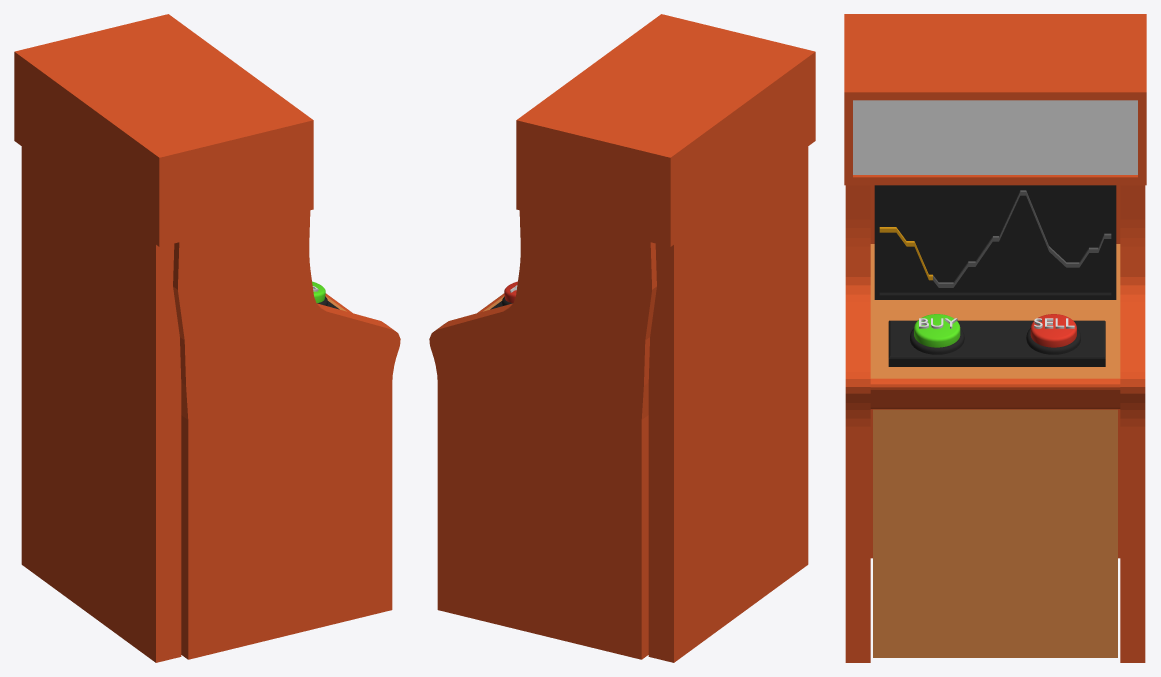
File: BorsaGame_Test.fbx
3 renders of one model, left to right at view 1: azimuth 30°, elevation 25°; view 2: azimuth 150°, elevation 25°; view 3: azimuth 270°, elevation 25°, orthographic. The views are drawn at different scales.
Visible parts, largest first — view 1: Machine; view 2: Machine; view 3: Machine.
Boxes of the visible parts, box(x1,y1,x2,y2) form: Machine: box(14, 14, 400, 662); Machine: box(429, 14, 815, 662); Machine: box(844, 14, 1146, 662).
Bounding box in the file's own units: 237 × 477 × 246.
